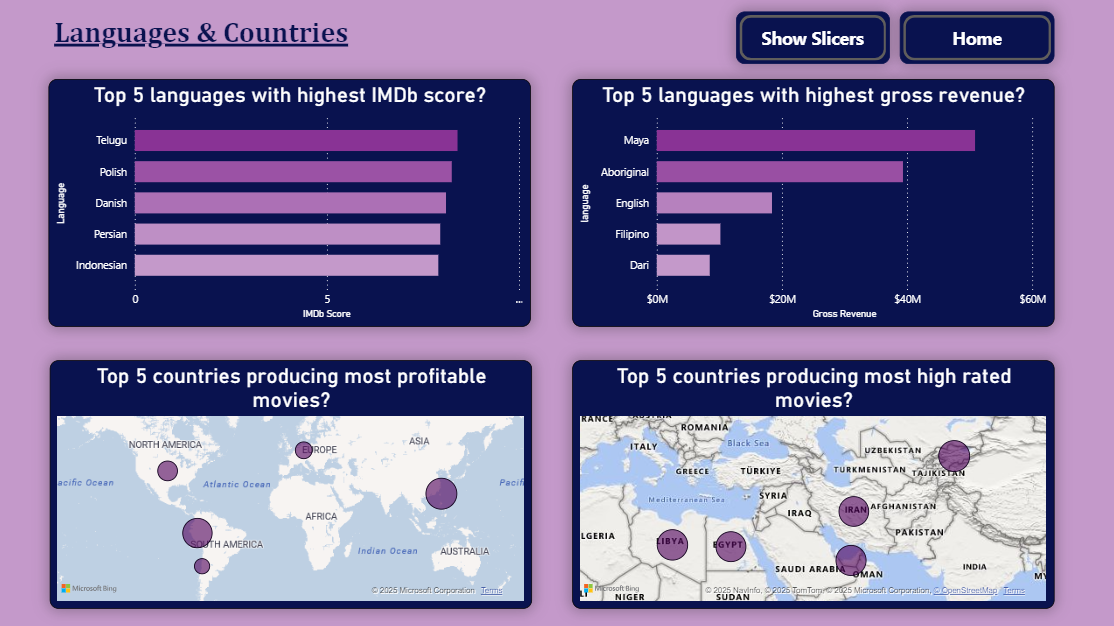

The page's visual inventory and layout, read from the dashboard file:
{"tool":"powerbi","page":{"name":"Languages & Countries","canvas":[1280,720],"ordinal":5},"visuals":[{"type":"textbox","box":[61.8,14.5,364.5,60.9],"z":0},{"type":"barChart","title":"Top 5 languages with highest gross revenue?","fields":{"Y":["Median(movie_data.gross)"],"Category":["movie_data.language"]},"box":[658.9,92,550.9,283.4],"z":1000},{"type":"map","title":"Top 5 countries producing most profitable movies?","fields":{"Category":["movie_data.country"],"Size":["Median(movie_data.gross)"]},"box":[61.4,412.9,551.4,284.3],"z":2000},{"type":"barChart","title":"Top 5 languages with highest IMDb score?","fields":{"Category":["movie_data.language"],"Y":["Median(movie_data.imdb_score)"]},"box":[60,92,550.9,283.4],"z":3000},{"type":"map","title":"Top 5 countries producing most high rated movies?","fields":{"Category":["movie_data.country"],"Size":["Median(movie_data.imdb_score)"]},"box":[658.6,412.9,551.4,284.3],"z":4000},{"type":"actionButton","title":"Home Button","box":[1032.9,14.3,177.1,60],"z":5000},{"type":"actionButton","title":"Show Slicer Button","box":[845.7,14.3,175.7,60],"z":6000}]}

Visuals, with their boxes in screenshot pixels (x1, y1, x2, y2), scaled from the page's 1280x720 canvas onto the 1114x626 screenshot:
textbox: (54, 13, 371, 66)
"Top 5 languages with highest gross revenue?" barChart: (573, 80, 1053, 326)
"Top 5 countries producing most profitable movies?" map: (53, 359, 533, 606)
"Top 5 languages with highest IMDb score?" barChart: (52, 80, 532, 326)
"Top 5 countries producing most high rated movies?" map: (573, 359, 1053, 606)
"Home Button" actionButton: (899, 12, 1053, 65)
"Show Slicer Button" actionButton: (736, 12, 889, 65)
